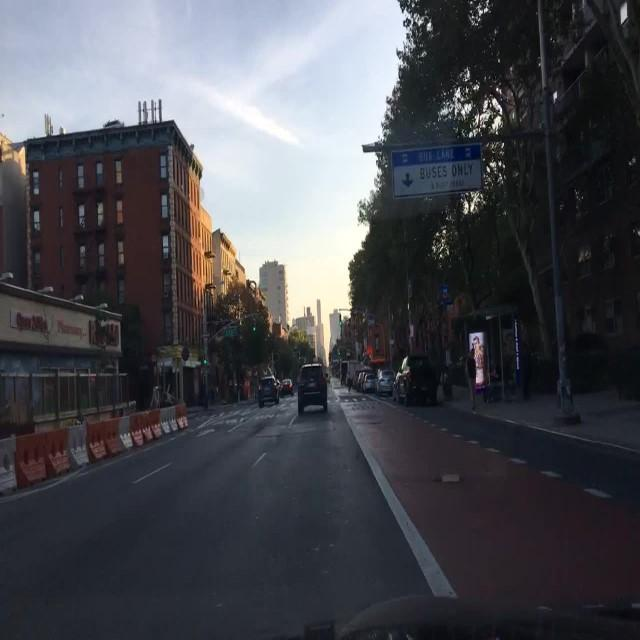normal: (292, 352, 337, 426)
